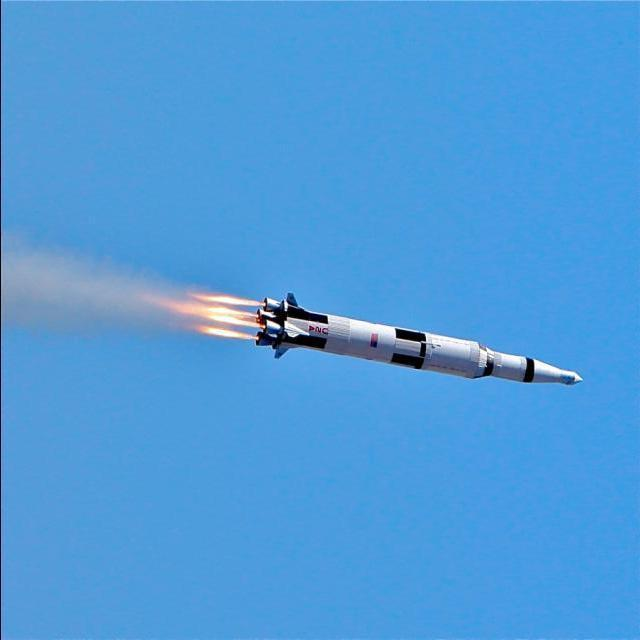Missile: (256, 289, 580, 392)
